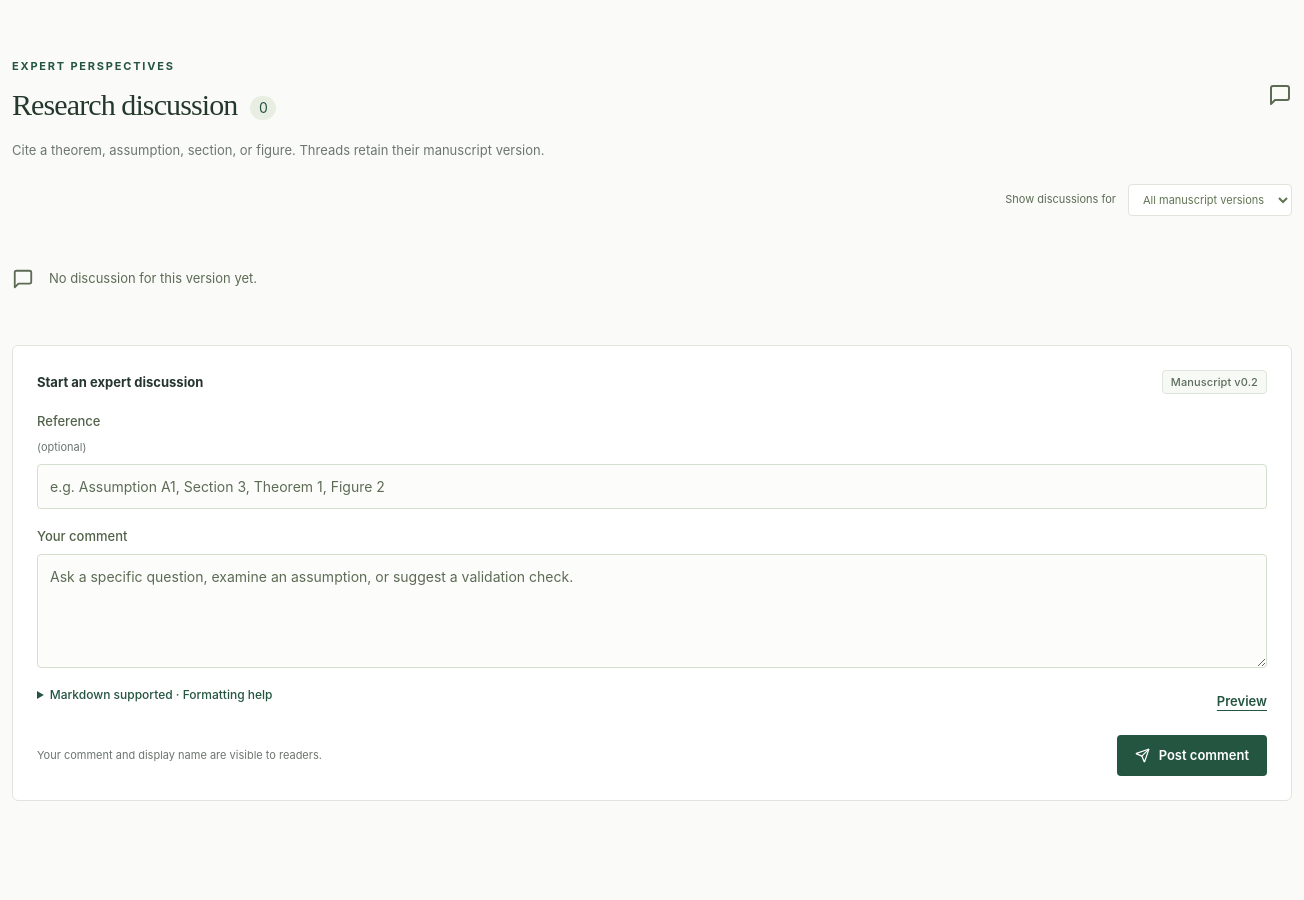
Test case: Discussion submission recovery › disables repeated submission until the original write completes
The width and height of the screenshot is (1304, 900).
Type "Please inspect this assumption." into the text box labelled "Your comment" at [652, 611], box x1=37 y1=554 x2=1267 y2=668
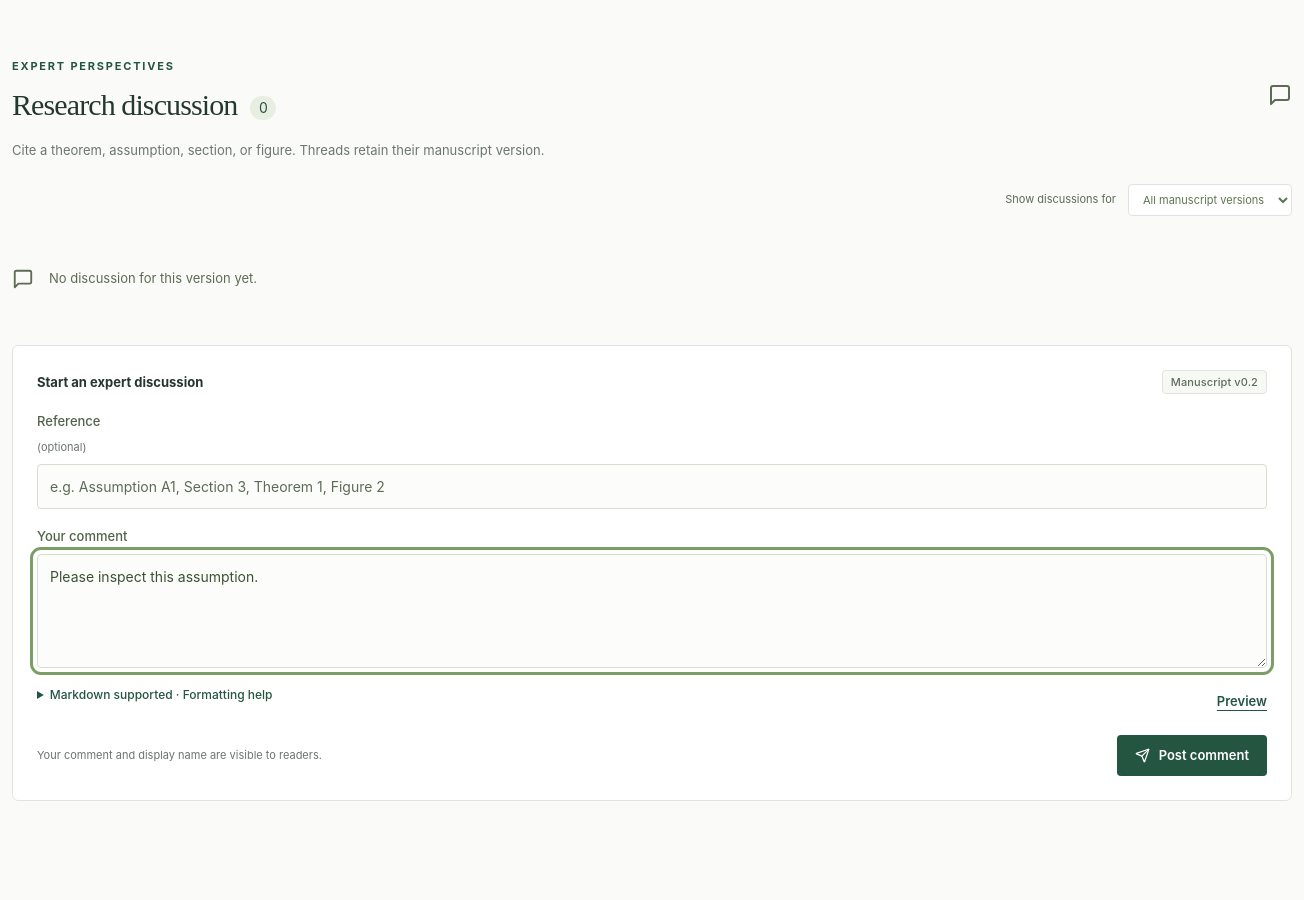
Click the button "Post comment" at [1192, 756], box x1=1117 y1=735 x2=1267 y2=776
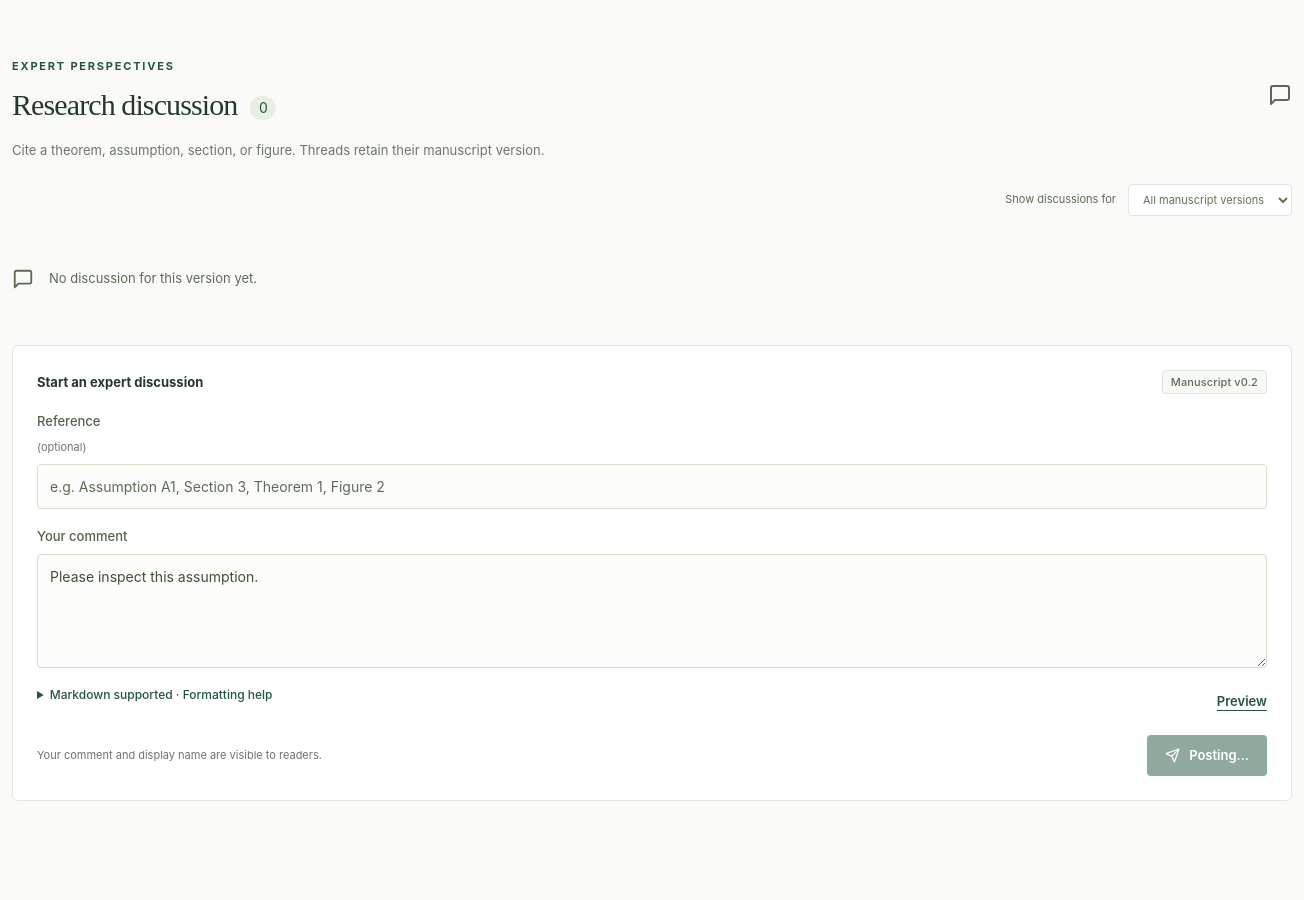
Click the button "Posting…" at [1207, 756], box x1=1147 y1=735 x2=1267 y2=776
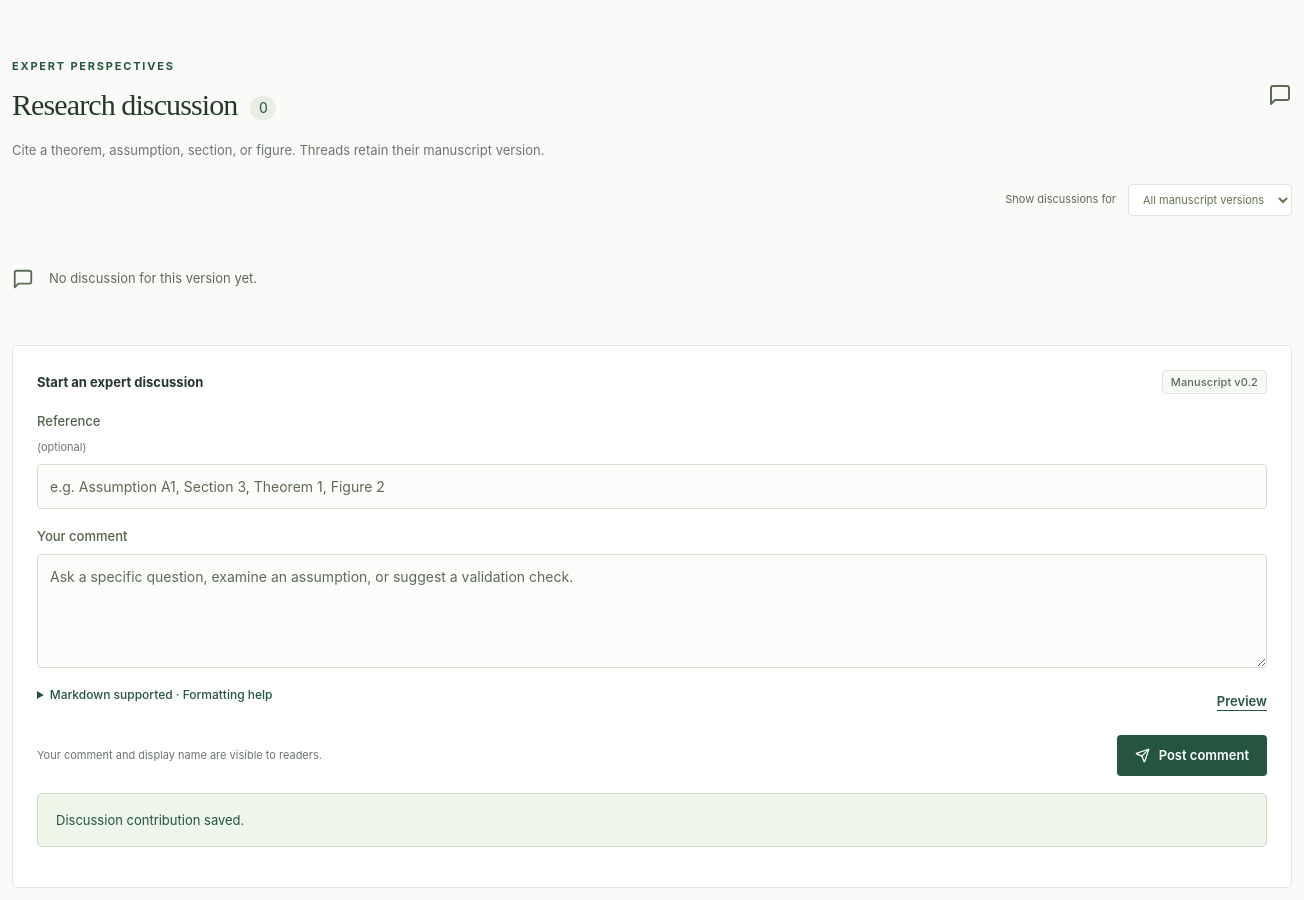
Result: the message reads "Discussion contribution saved." at x1=56 y1=812 x2=244 y2=828
Result: the text box labelled "Your comment" is empty at x1=37 y1=554 x2=1267 y2=668
